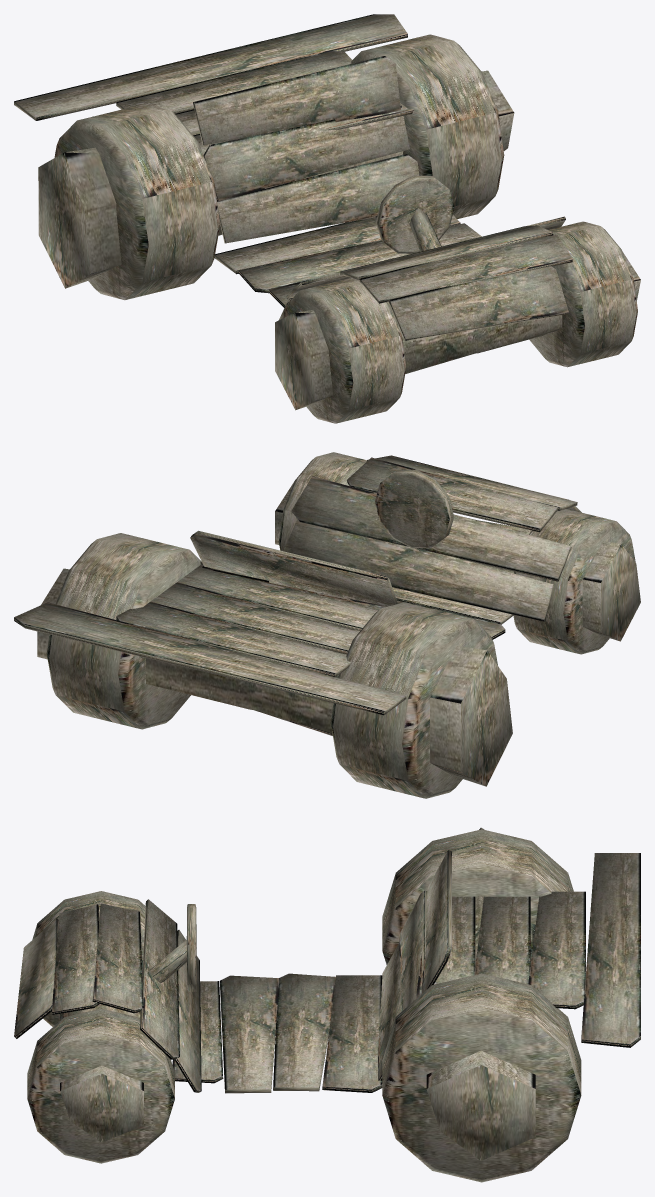
File: Kart.fbx
The picture shows the model from 3 angles, top to bottom: view 1: azimuth 30°, elevation 25°; view 2: azimuth 150°, elevation 25°; view 3: azimuth 270°, elevation 25°; orthographic projection. The views are drawn at different scales.
Visible parts, largest first — view 1: Cab, WheelBackRight, WheelBackLeft, WheelFrontRight, WheelFrontLeft, SteeringWheel; view 2: Cab, WheelBackRight, WheelBackLeft, WheelFrontRight, SteeringWheel, WheelFrontLeft; view 3: Cab, WheelBackLeft, WheelFrontLeft, WheelBackRight, WheelFrontRight, SteeringWheel.
Boxes of the visible parts, x1,y1,x2,y2 form: Cab: [14, 14, 640, 410]; WheelBackRight: [54, 103, 220, 300]; WheelBackLeft: [350, 34, 504, 219]; WheelFrontRight: [283, 278, 406, 423]; WheelFrontLeft: [529, 221, 637, 367]; SteeringWheel: [376, 175, 454, 253]; Cab: [14, 455, 640, 786]; WheelBackRight: [330, 602, 497, 798]; WheelBackLeft: [46, 533, 201, 729]; WheelFrontRight: [513, 509, 635, 654]; SteeringWheel: [375, 469, 453, 548]; WheelFrontLeft: [278, 452, 366, 550]; Cab: [14, 827, 640, 1160]; WheelBackLeft: [382, 973, 581, 1182]; WheelFrontLeft: [27, 1008, 174, 1163]; WheelBackRight: [382, 829, 573, 964]; WheelFrontRight: [32, 891, 145, 1026]; SteeringWheel: [186, 904, 196, 991].
Size of the model in its own units: 30.89 by 12.89 by 38.03.
Materials: 1 (1 with a texture image).
